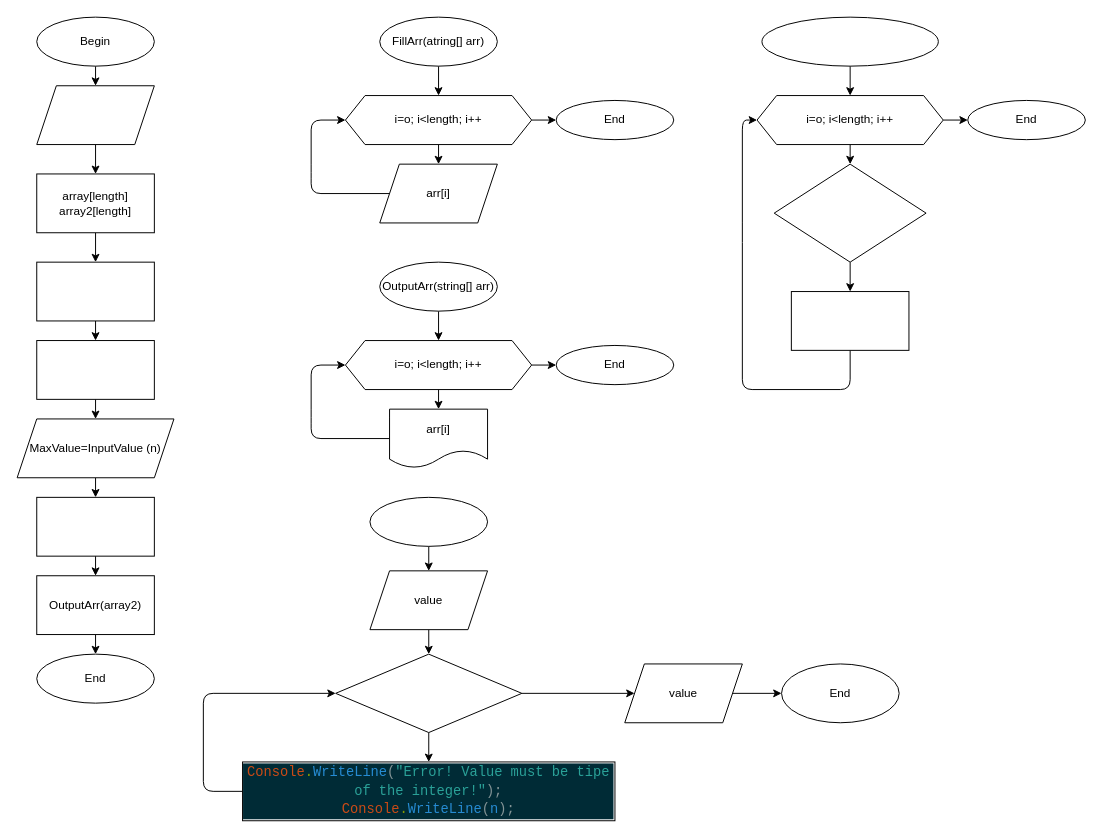
Some shapes in this 1103 by 838 pixel diagram are drawn without their labels. Here are the shapes that lost their labels. From the top down, the centre of each, then its label:
At point (849, 41): "SortArr(string[] arr, string[] arr2)".
At point (95, 115): "length".
At point (849, 212): "arr[i].Length<=MaxValue".
At point (95, 291): "FillArr(array)".
At point (849, 320): "arr2[i]=arr[i]".
At point (95, 369): "OutputArr(array)".
At point (95, 526): "SortArr(array,array2)".
At point (428, 521): "InputValue(string n)".
At point (428, 693): "value !int || value <=0".
